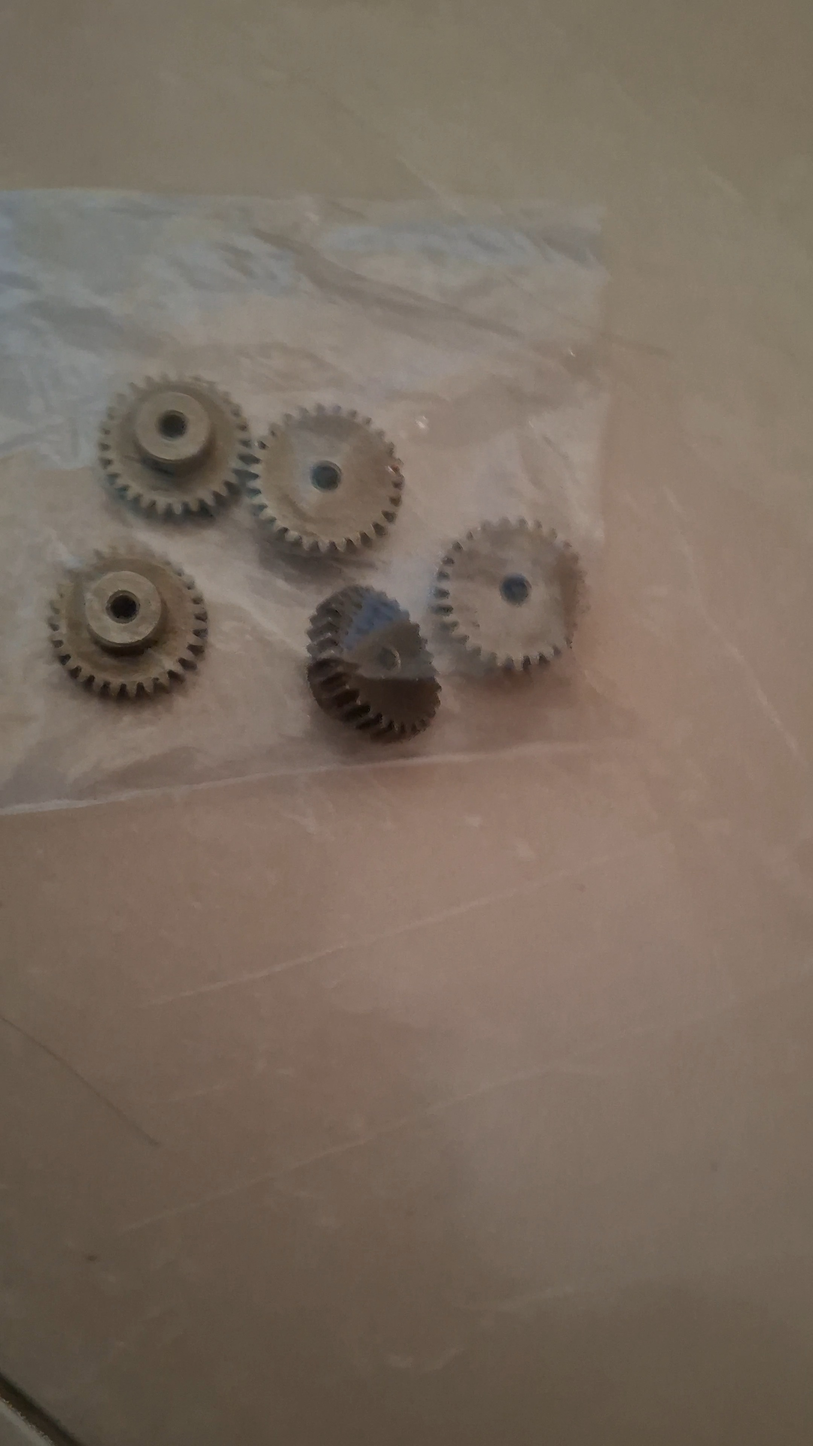spur gear: (49, 549, 207, 697), (245, 406, 403, 553), (434, 519, 583, 669), (99, 377, 254, 516), (308, 586, 440, 740)
